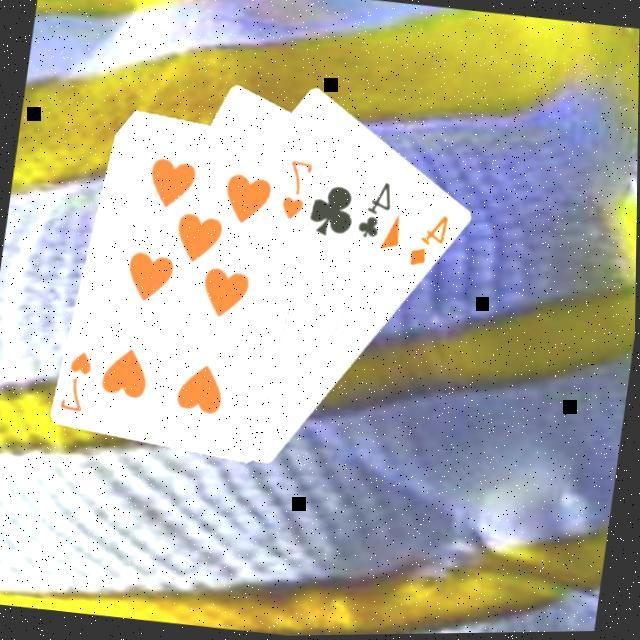4C: (353, 174, 398, 243)
4D: (404, 207, 453, 273)
7H: (57, 343, 98, 413), (277, 153, 316, 223)
